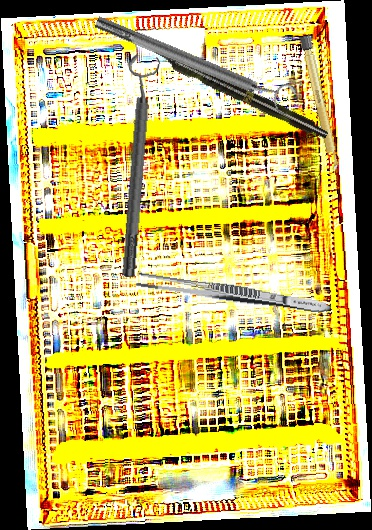Dressing Forceps: (135, 270, 332, 318)
Fixation Ring: (90, 5, 299, 118), (109, 53, 164, 279)
Handpiece: (144, 40, 331, 143)
Scalpel Handle: (298, 34, 342, 173)
